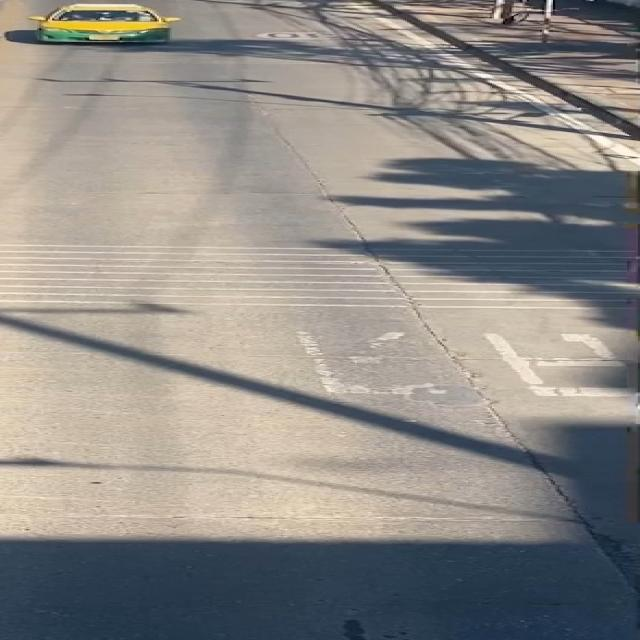car: (9, 0, 205, 50)
